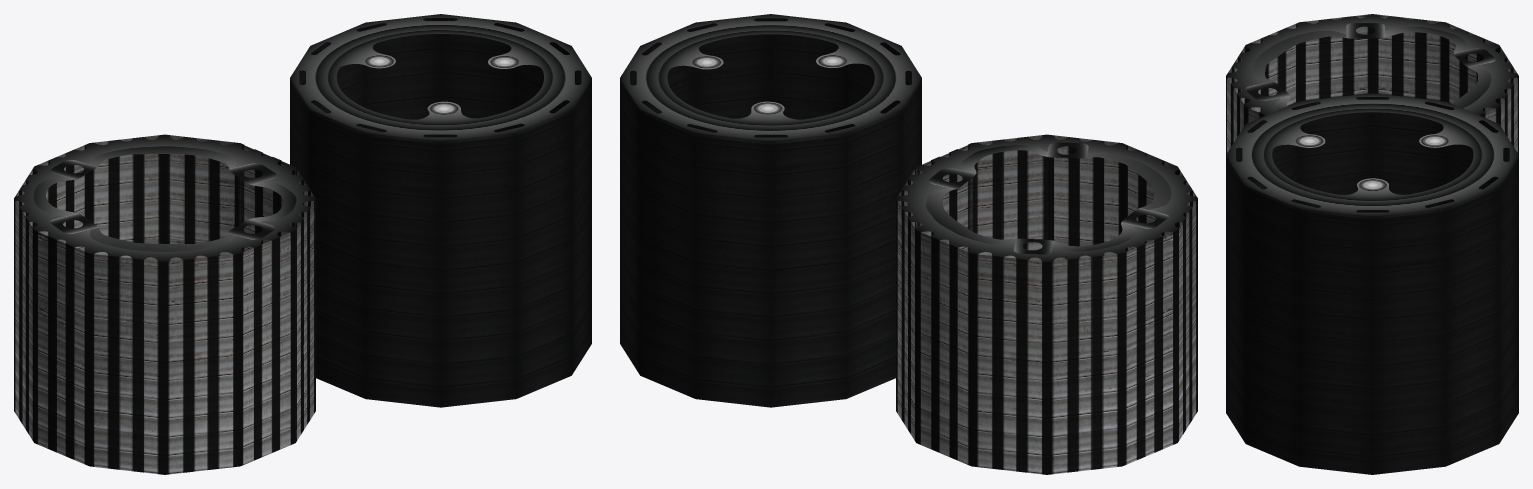
Rendered from Discos y Cubrecadenas.FBX.
3 renders of one model, left to right at view 1: azimuth 30°, elevation 25°; view 2: azimuth 150°, elevation 25°; view 3: azimuth 270°, elevation 25°, orthographic. The views are drawn at different scales.
Parts seen in each view (by area): view 1: Cubrecadena, Disco; view 2: Cubrecadena, Disco; view 3: Cubrecadena, Disco.
Part boxes in pixels (left/top/right/bottom): Cubrecadena: left=290, top=14, right=591, bottom=407; Disco: left=14, top=134, right=315, bottom=474; Cubrecadena: left=620, top=14, right=921, bottom=407; Disco: left=896, top=134, right=1197, bottom=474; Cubrecadena: left=1226, top=93, right=1518, bottom=474; Disco: left=1226, top=14, right=1518, bottom=154.
Size of the model in its own units: 74 by 35 by 36.
Materials: 1 (1 with a texture image).
